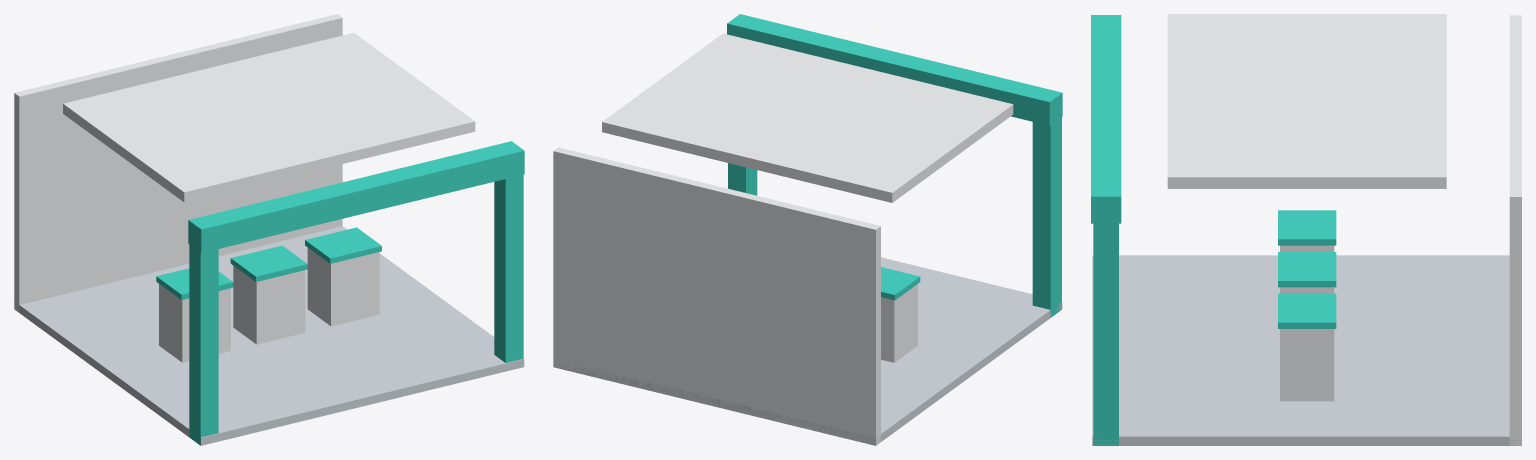
3 views of the same model, side by side, from view 1: azimuth 30°, elevation 25°; view 2: azimuth 150°, elevation 25°; view 3: azimuth 270°, elevation 25° (orthographic). The views are drawn at different scales.
Visible parts, largest first — view 1: Exhibition Booth Concept; view 2: Exhibition Booth Concept; view 3: Exhibition Booth Concept.
Part boxes in pixels (left/top/right/bottom): Exhibition Booth Concept: left=14, top=14, right=524, bottom=445; Exhibition Booth Concept: left=553, top=14, right=1062, bottom=445; Exhibition Booth Concept: left=1091, top=14, right=1521, bottom=445.
Bounding box in the file's own units: 5 × 3.34 × 5.02.
